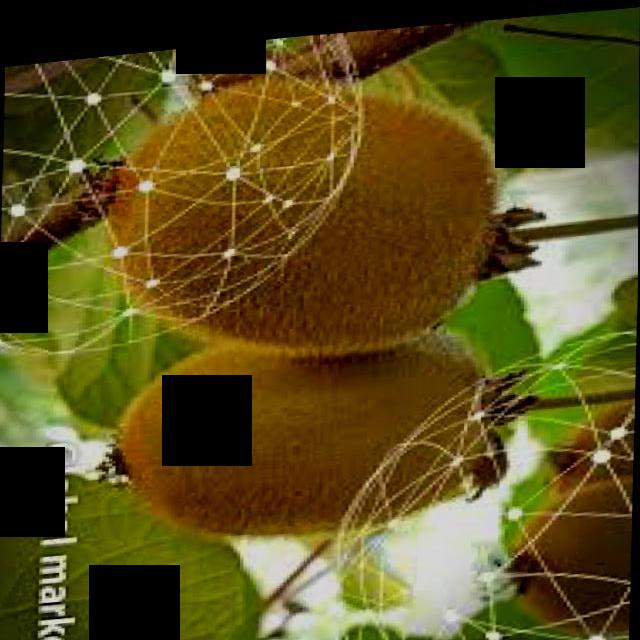kiwi: (110, 51, 522, 364), (116, 306, 506, 552), (491, 471, 633, 640), (545, 395, 635, 494)
